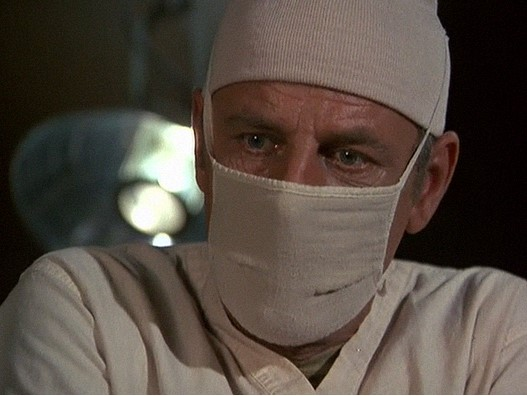face_with_mask: (199, 5, 460, 346)
